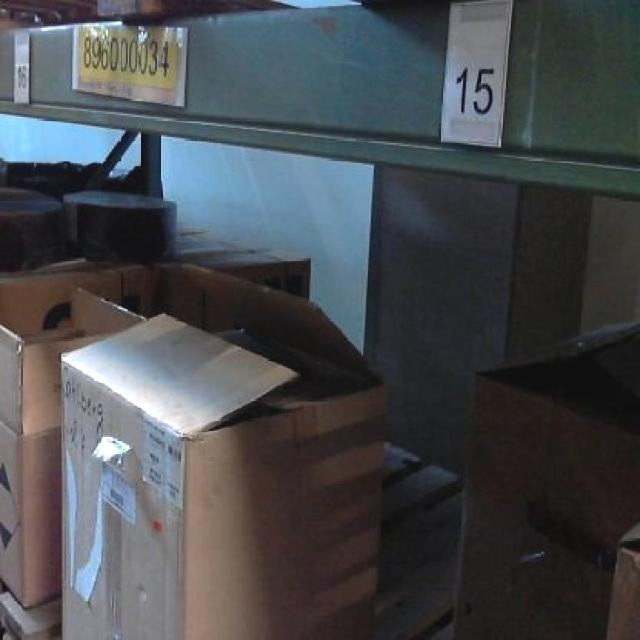pallets: (60, 263, 385, 637), (454, 332, 637, 637), (0, 271, 137, 603)
